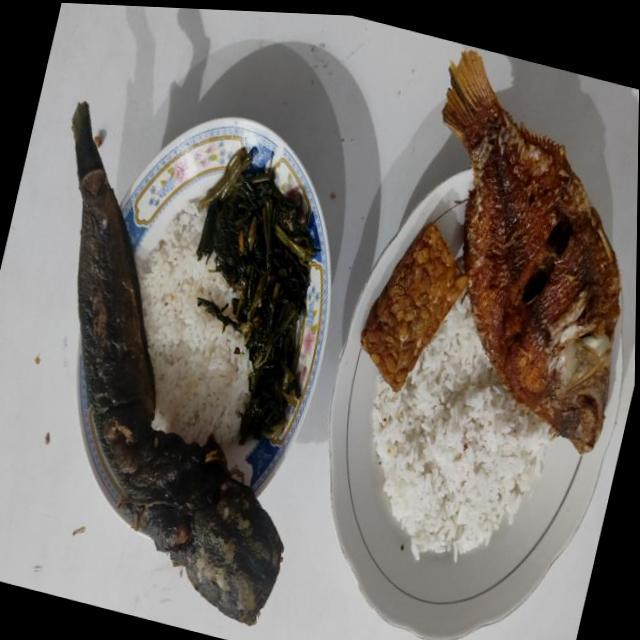ikan_mujair: (442, 51, 621, 454)
nasi_putih: (372, 292, 554, 562), (135, 200, 250, 449)
tempe_goreng: (361, 222, 466, 392)
tumis_kangkung: (196, 146, 320, 444)
